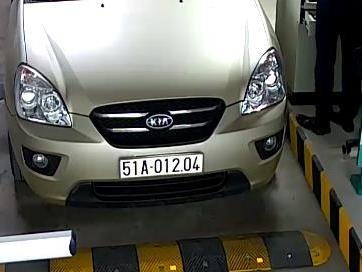number: (119, 154, 204, 179)
